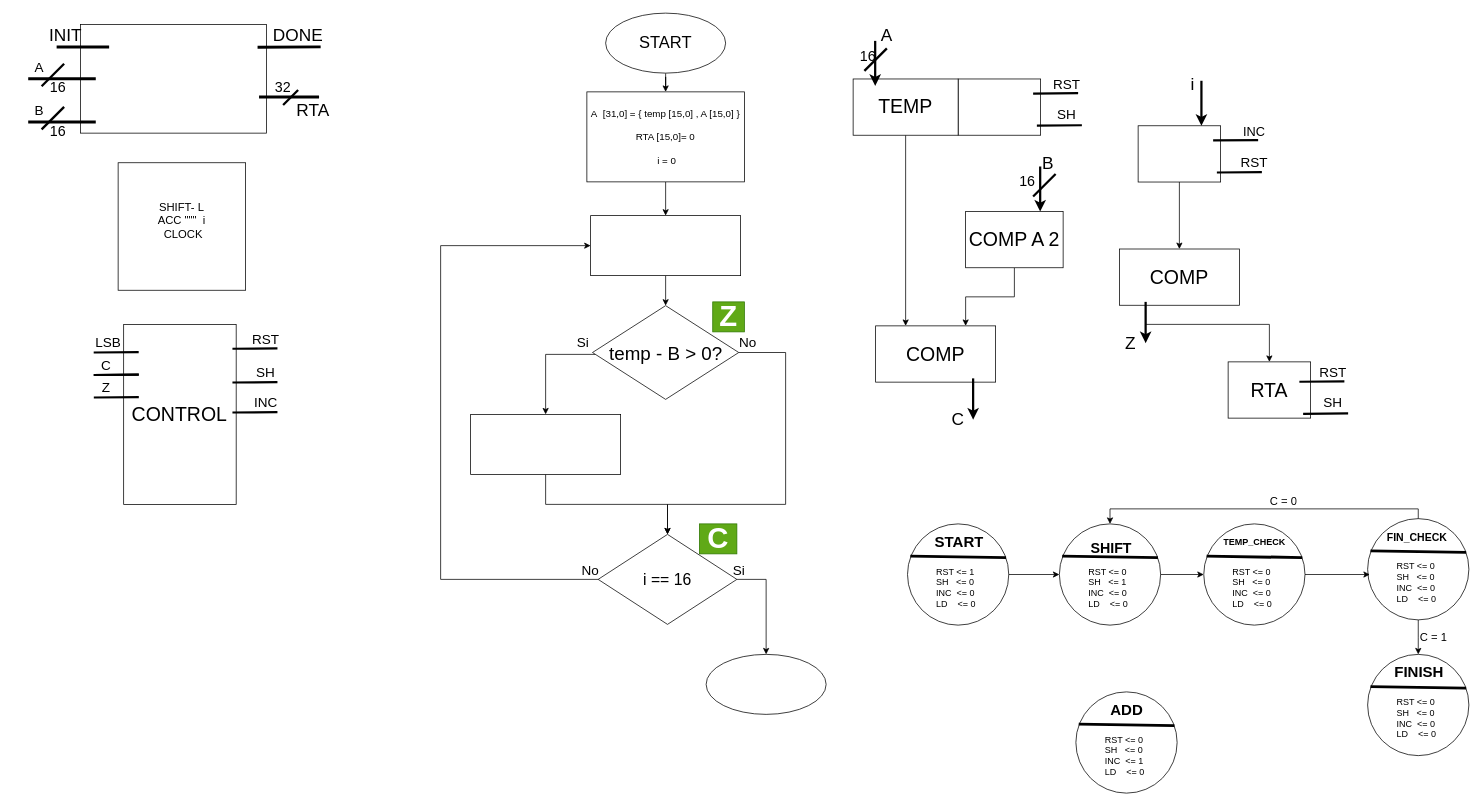
This 1482x806 diagram has some shape labels left out. Each missing label, with the centre of its shape:
A / B: point 173,78
A<< RTA << i++: point 665,245
ACC: point 1179,153
END: point 765,684
RCI - R: point 999,106
RTA [0] = 1: point 545,444
